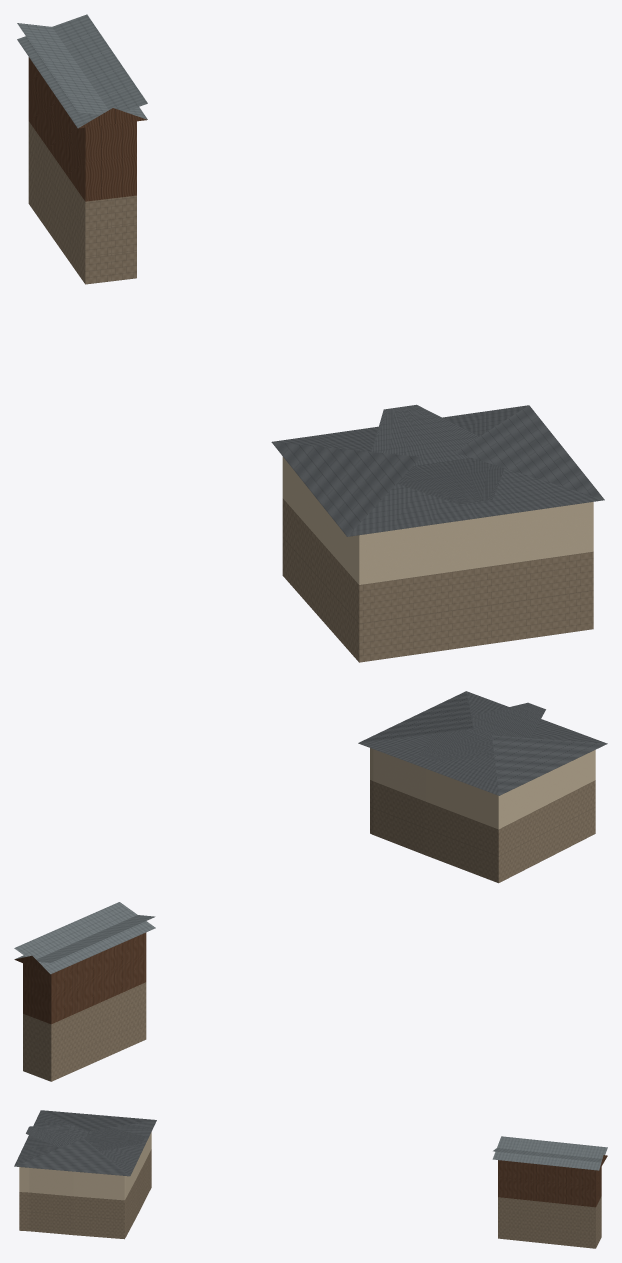
Rendered from bld_c0_11_490.gltf.
3 views of the same model, one above another, from view 1: azimuth 30°, elevation 25°; view 2: azimuth 150°, elevation 25°; view 3: azimuth 270°, elevation 25° (orthographic). The views are drawn at different scales.
Visible parts, largest first — view 1: bld_c0_11_490; view 2: bld_c0_11_490; view 3: bld_c0_11_490.
Boxes of the visible parts, left/top/right/bottom form: bld_c0_11_490: left=17, top=14, right=604, bottom=662; bld_c0_11_490: left=14, top=691, right=607, bottom=1081; bld_c0_11_490: left=14, top=1110, right=607, bottom=1248.
Bounding box in the file's own units: 19.01 × 10.8 × 65.55.
Materials: 6 (6 with a texture image).
